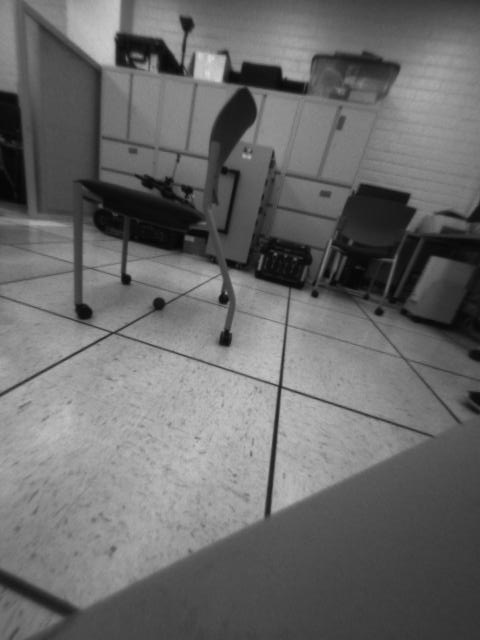dogtoy: (145, 290, 172, 314)
